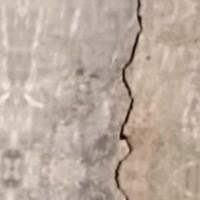crack: (108, 0, 158, 199)
